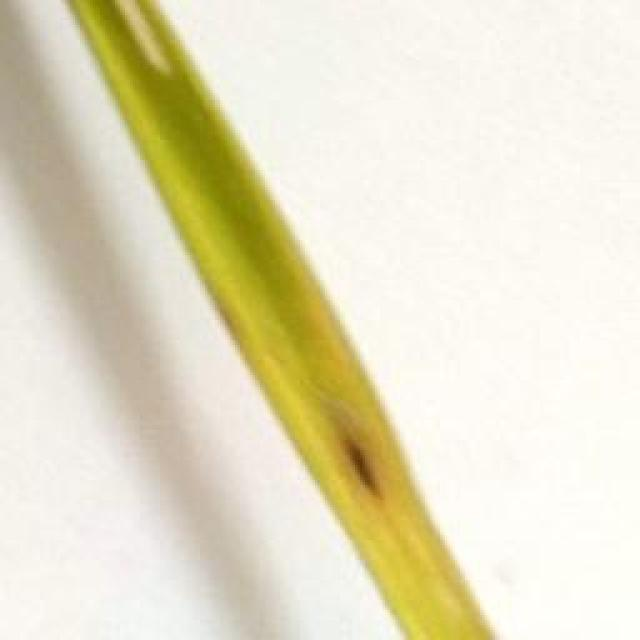Bacterial_Blight: (98, 0, 186, 89)
Brown_Spot: (330, 425, 392, 503)
